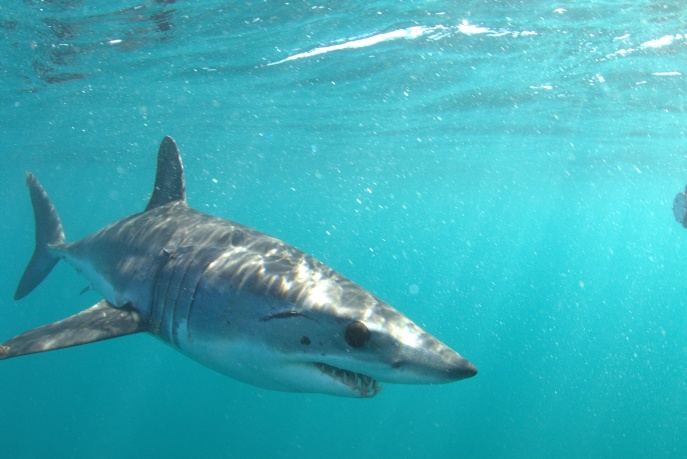Mako: (1, 127, 483, 416)
